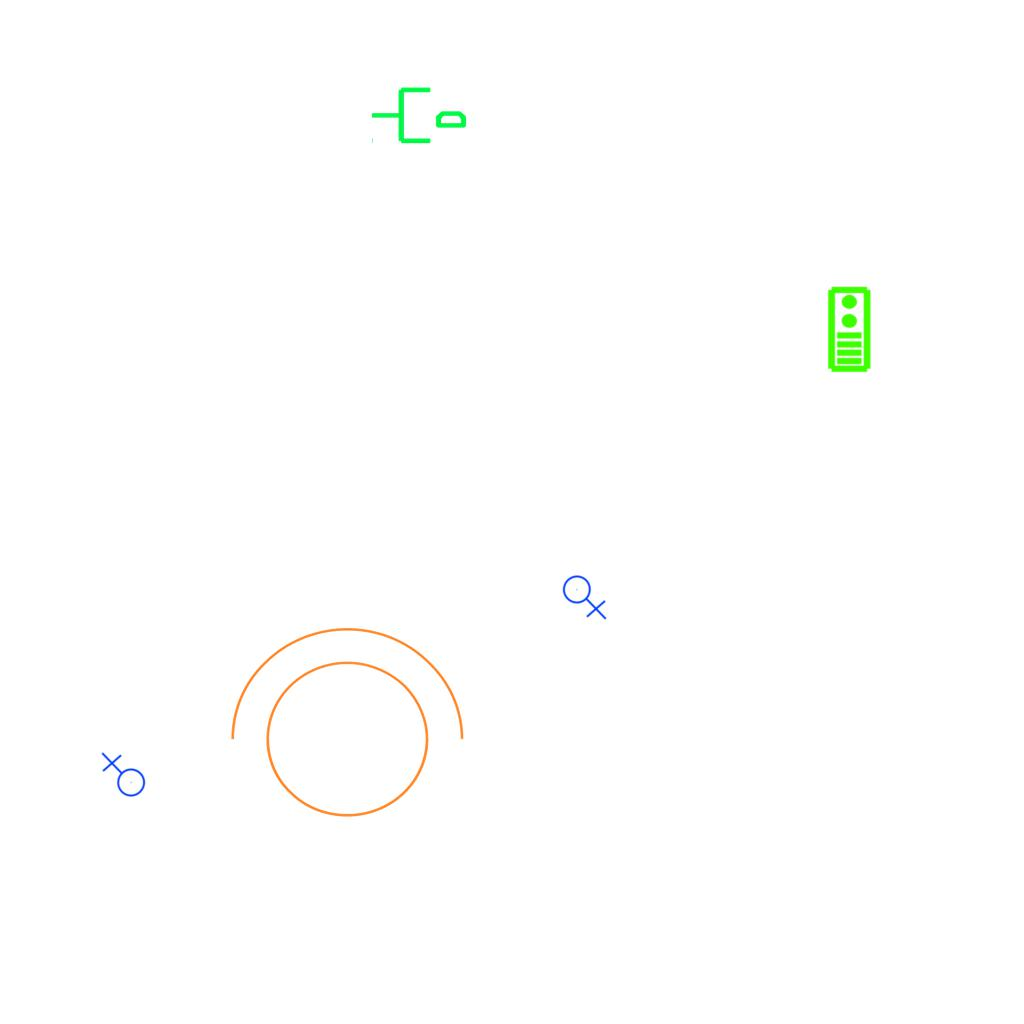Datenanschluss_einfach: (369, 79, 469, 148)
Elektroanschluss_allgemein_230V_Geraeteanschlussdose_230V: (562, 571, 609, 620), (99, 752, 146, 801)
Gegensprechanlage_mit_Video: (825, 285, 872, 373)
Scheinwerfer_fuer_Alarmbeleuchtung: (209, 617, 473, 842)
